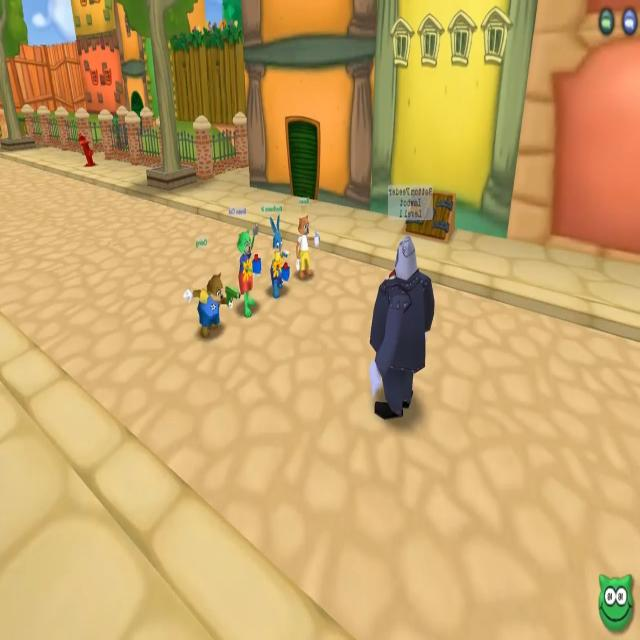bottomfeeder: (361, 187, 437, 426)
